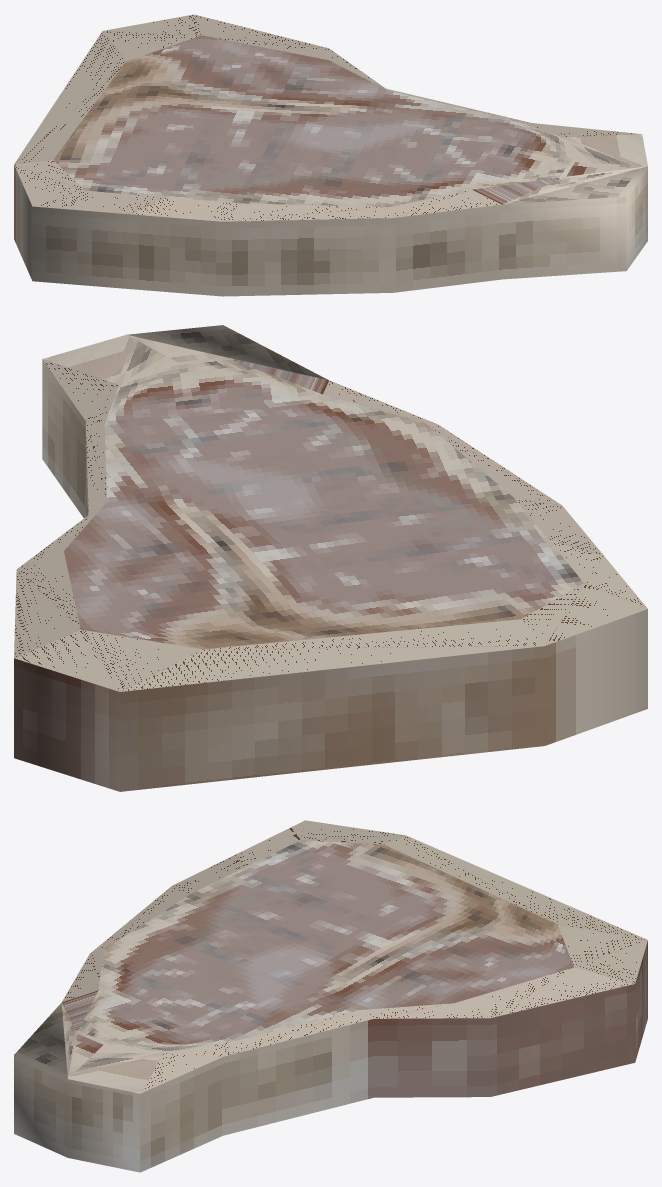
File: WorldItem_MilkSteak.FBX
The picture shows the model from 3 angles, top to bottom: view 1: azimuth 30°, elevation 25°; view 2: azimuth 150°, elevation 25°; view 3: azimuth 270°, elevation 25°; orthographic projection. The views are drawn at different scales.
Parts seen in each view (by area): view 1: Steak; view 2: Steak; view 3: Steak.
Boxes of the visible parts, x1,y1,x2,y2 form: Steak: (14, 14, 647, 296); Steak: (14, 325, 647, 791); Steak: (14, 820, 647, 1172).
Size of the model in its own units: 42.39 by 6.11 by 41.53.
